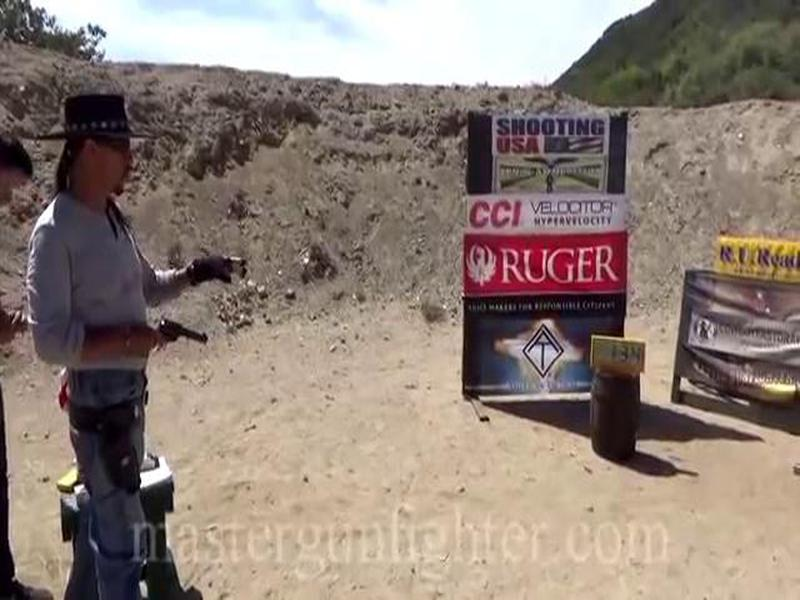Revolver: (138, 311, 218, 378)
